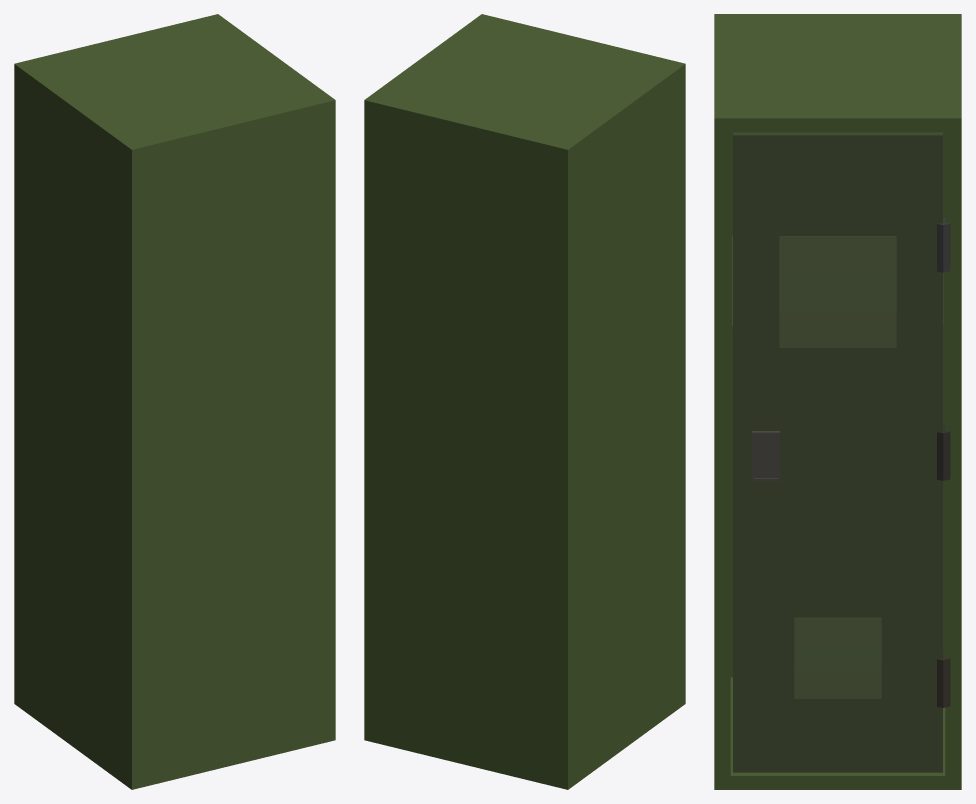
File: Locker Green.fbx
3 views of the same model, side by side, from view 1: azimuth 30°, elevation 25°; view 2: azimuth 150°, elevation 25°; view 3: azimuth 270°, elevation 25° (orthographic). The views are drawn at different scales.
Parts seen in each view (by area): view 1: Cabinet; view 2: Cabinet; view 3: Door, Cabinet, DoorSocket, Hinge Top, Hinge Bottom, Hinge Middle.
Part boxes in pixels (x1,y1,x2,y2): Cabinet: (14, 14, 335, 789); Cabinet: (364, 14, 685, 789); Door: (733, 132, 942, 772); Cabinet: (714, 14, 961, 789); DoorSocket: (752, 431, 780, 481); Hinge Top: (937, 218, 950, 272); Hinge Bottom: (937, 653, 950, 707); Hinge Middle: (937, 426, 950, 480).
Size of the model in its own units: 211 by 600 by 200.
